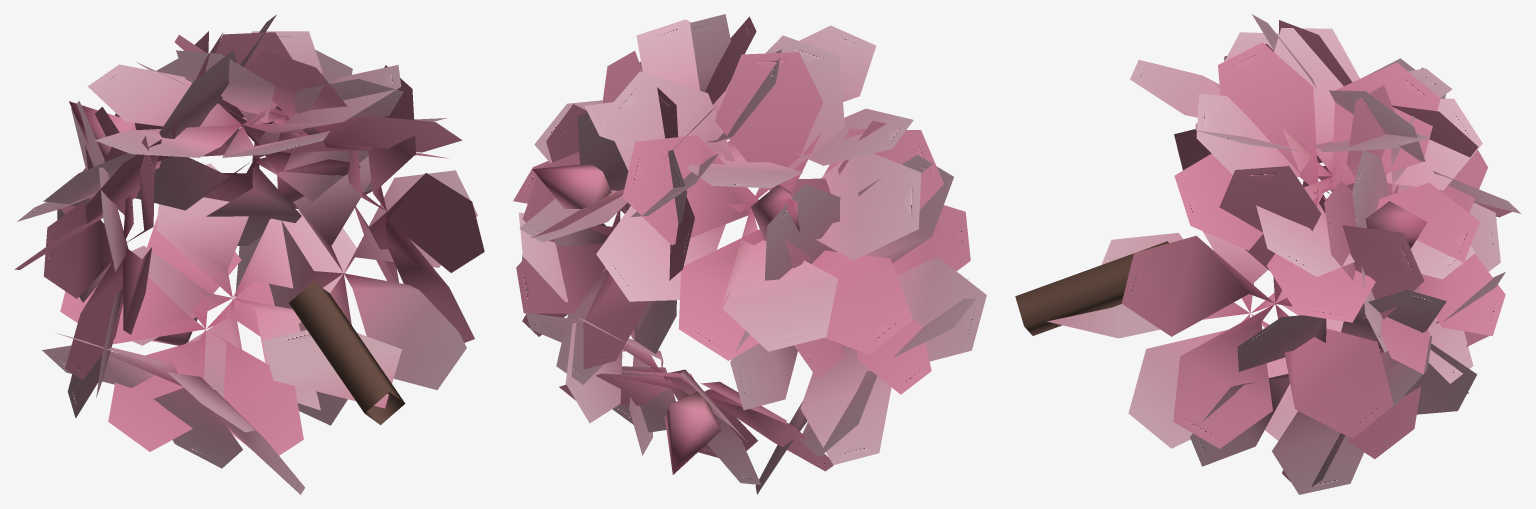
The model's file is leaves-BILo1XV5.glb.
3 views of the same model, side by side, from view 1: azimuth 30°, elevation 25°; view 2: azimuth 150°, elevation 25°; view 3: azimuth 270°, elevation 25° (orthographic).
Parts seen in each view (by area): view 1: Leaf_0, Leaf_1, Leaf_2; view 2: Leaf_0, Leaf_1; view 3: Leaf_1, Leaf_0, Leaf_2.
Boxes of the visible parts, left/top/right/bottom form: Leaf_0: left=17, top=14, right=477, bottom=494; Leaf_1: left=14, top=31, right=484, bottom=455; Leaf_2: left=262, top=330, right=401, bottom=408; Leaf_0: left=519, top=14, right=986, bottom=494; Leaf_1: left=513, top=16, right=970, bottom=474; Leaf_1: left=1121, top=20, right=1511, bottom=481; Leaf_0: left=1015, top=14, right=1520, bottom=494; Leaf_2: left=1047, top=304, right=1159, bottom=338.
Size of the model in its own units: 0.1395 by 0.1423 by 0.1497.
